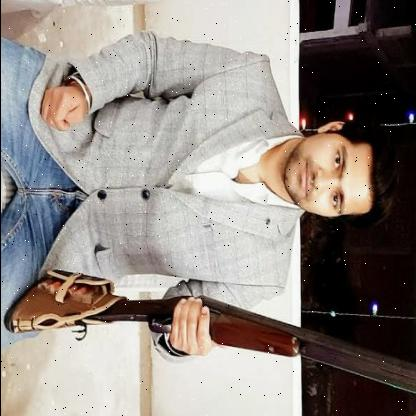rifle: (1, 265, 416, 394)
